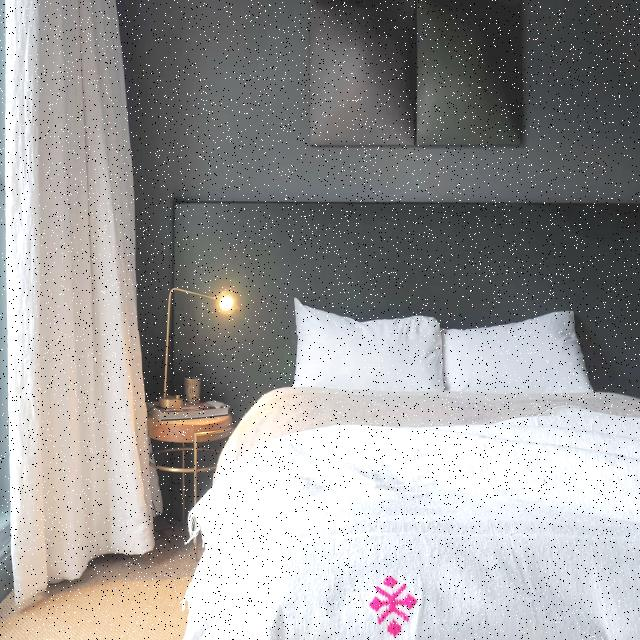bed: (210, 299, 640, 640)
